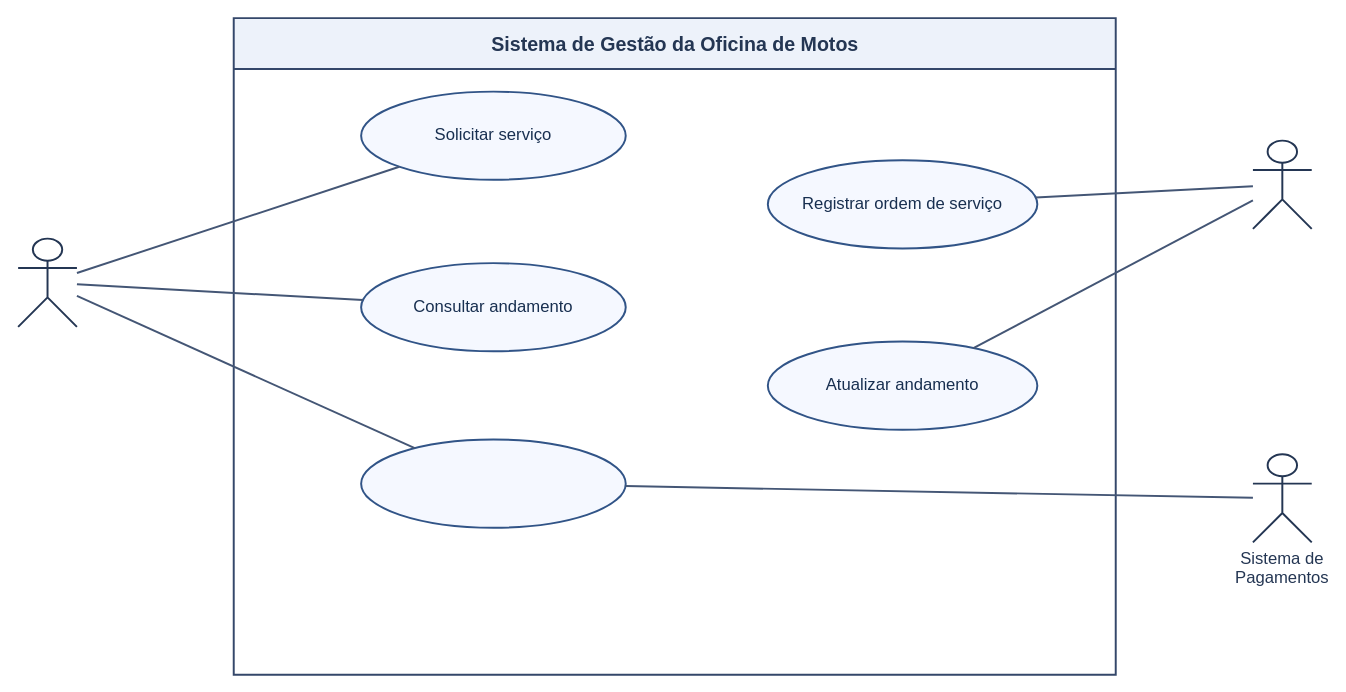
Image size: 1346x692. Some labels were removed from this diagram. Here are the shapes that lost their labels. From the top down, the centre of each, then its label:
point (1281, 184): Atendente
point (47, 282): Cliente
point (493, 483): Pagar serviço
